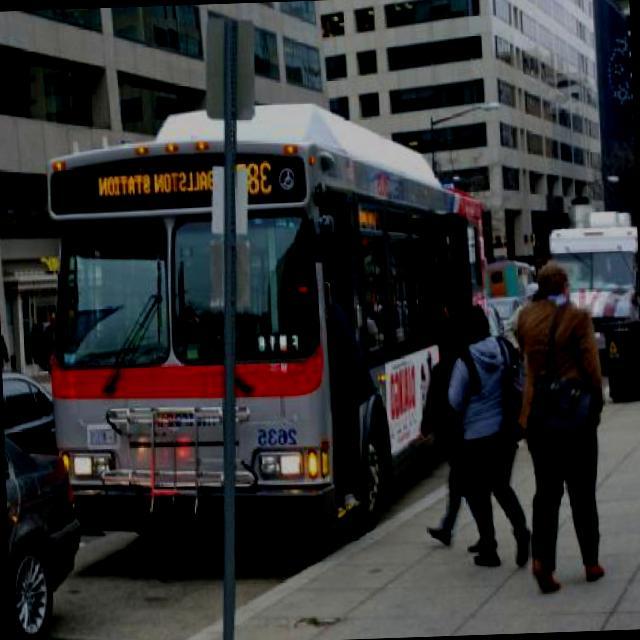Person: (510, 256, 613, 594), (441, 303, 530, 566), (414, 316, 482, 555), (326, 294, 379, 512), (2, 334, 8, 370)
